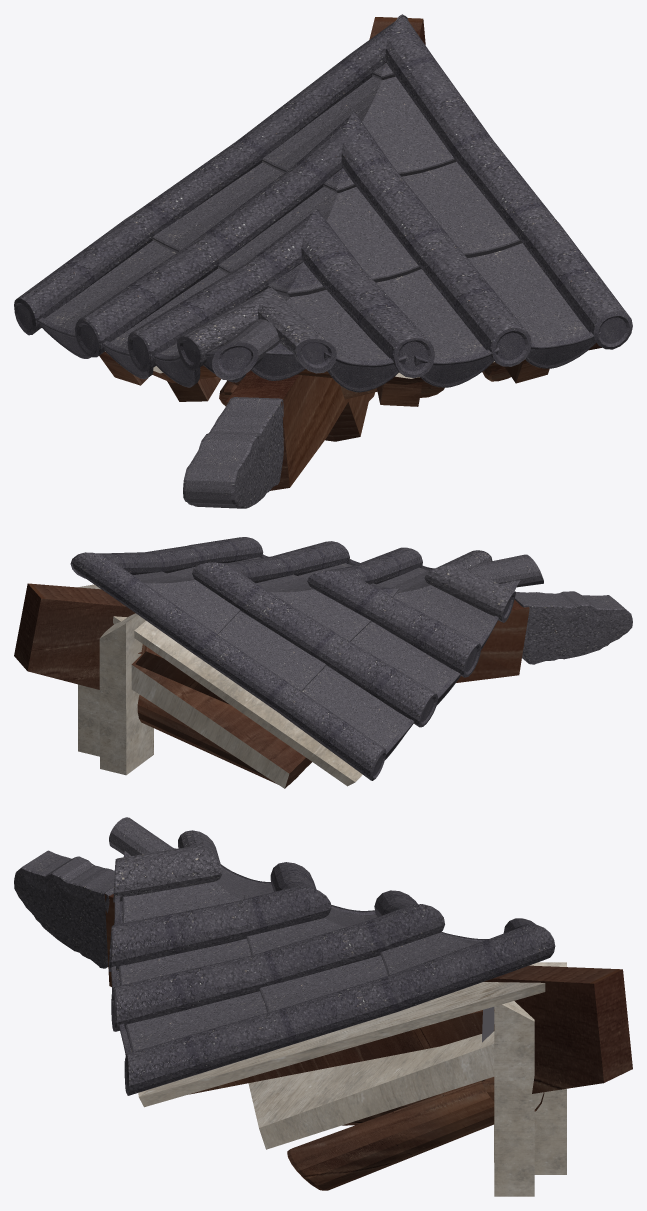
Rendered from SM_R_RoofCorner_5.fbx.
The picture shows the model from 3 angles, top to bottom: view 1: azimuth 30°, elevation 25°; view 2: azimuth 150°, elevation 25°; view 3: azimuth 270°, elevation 25°; orthographic projection. The views are drawn at different scales.
Parts seen in each view (by area): view 1: SM_R_RoofCorner_5; view 2: SM_R_RoofCorner_5; view 3: SM_R_RoofCorner_5.
Boxes of the visible parts, x1,y1,x2,y2 form: SM_R_RoofCorner_5: [14, 14, 632, 508]; SM_R_RoofCorner_5: [14, 537, 632, 788]; SM_R_RoofCorner_5: [14, 817, 632, 1196].
Bounding box in the file's own units: 364 × 375 × 179.
Materials: 4 (4 with a texture image).
